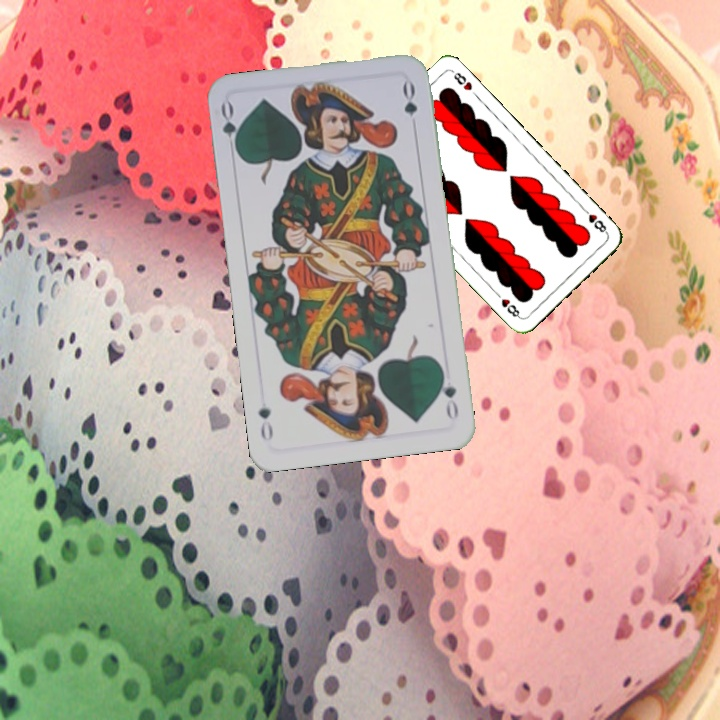GO: (217, 99, 243, 158), (436, 365, 461, 424)
H8: (578, 204, 610, 236)
